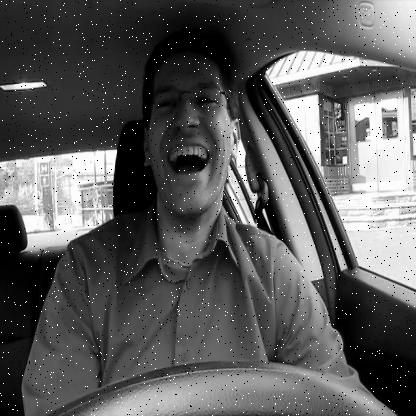no_seatbelt: (100, 2, 286, 382)
